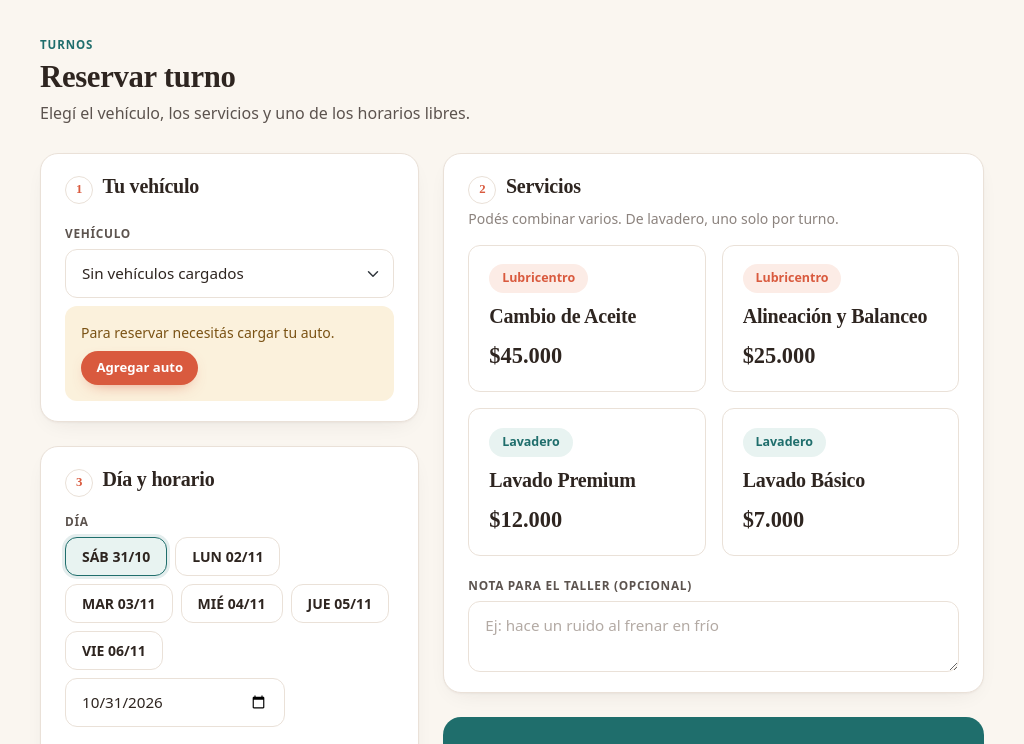
Test: AltaTurno: elegir varios servicios (Dado / Cuando / Entonces) › Dado un cliente, Cuando elige dos de lubricentro y un lavado, Entonces quedan los tres y el total los suma
Check: the text "Cambio de Aceite" is shown, box [489,305,636,327]
Step 1. Click the button "Lubricentro Cambio de Aceite $45.000" → (587, 319), box [468,245,706,392]
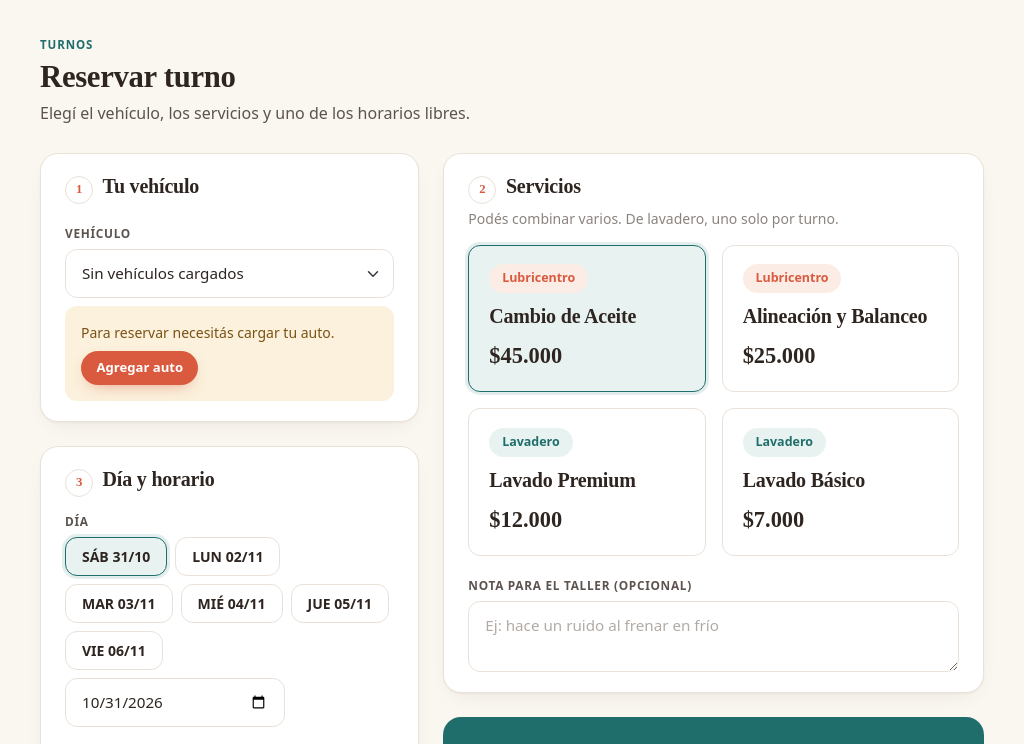
Step 2. Click the button "Lubricentro Alineación y Balanceo $25.000" → (840, 319), box [722,245,959,392]
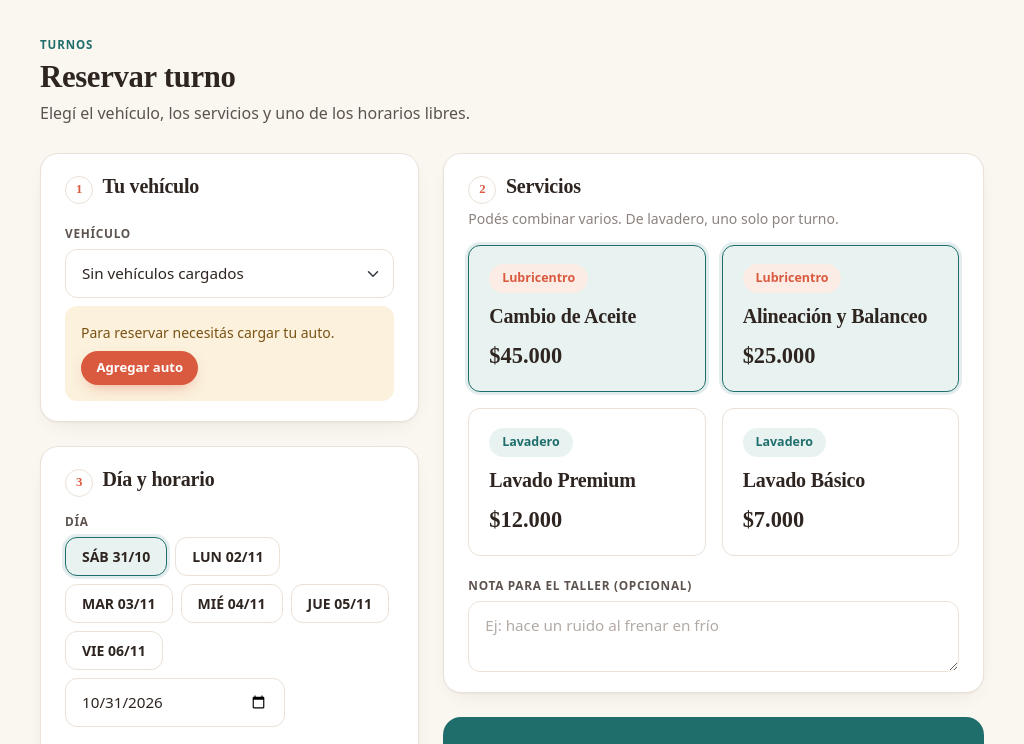
Step 3. Click the button "Lavadero Lavado Básico $7.000" → (840, 482), box [722,408,959,556]
(page scrolled)
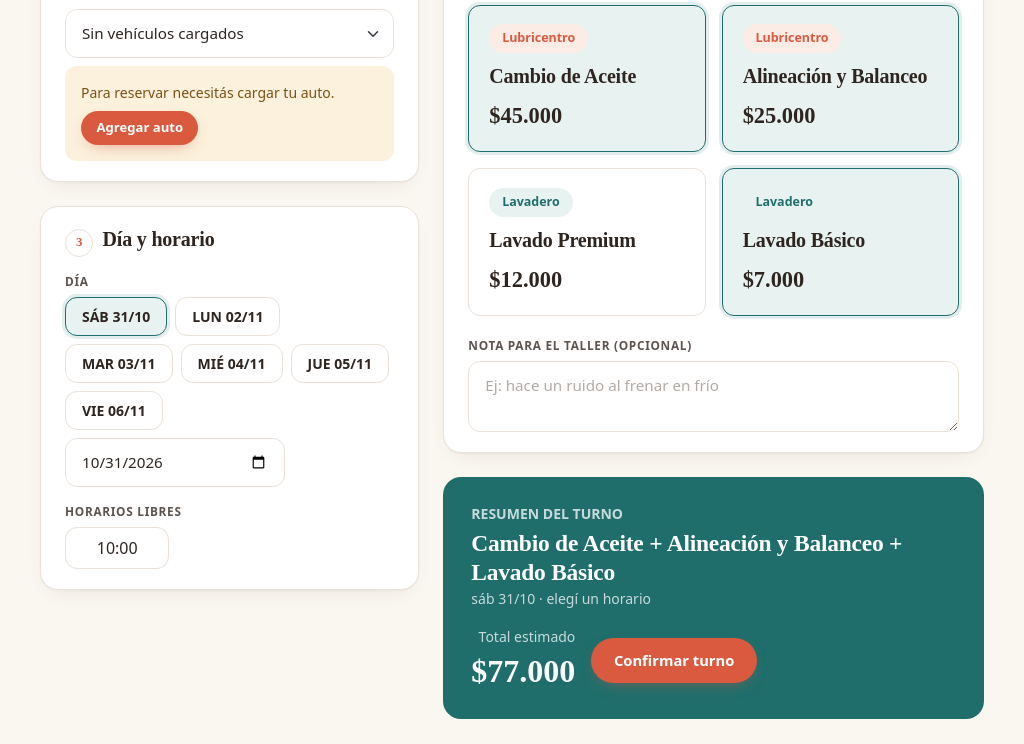
Check: the heading "Cambio de Aceite + Alineación y Balanceo + Lavado Básico" is shown, box [471,529,956,586]
